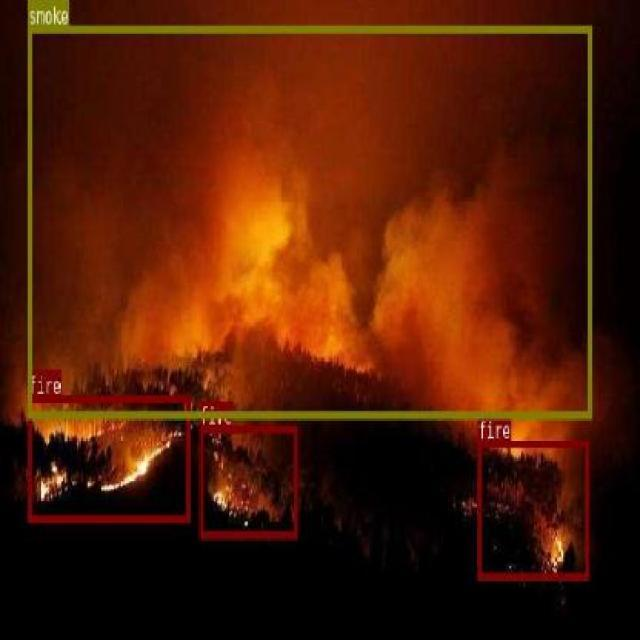Fire: (28, 393, 189, 521), (477, 439, 588, 579), (198, 424, 297, 538)
Smoke: (26, 25, 591, 418)
